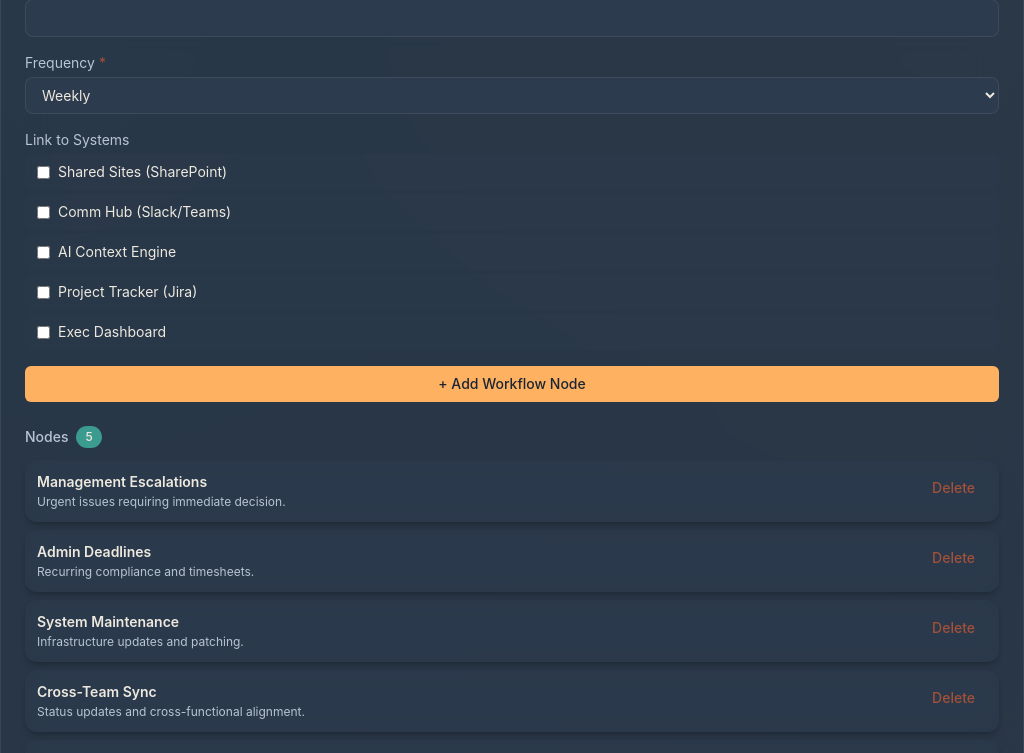
Test: InputStudio integration › validates empty workflow name and shows error
(page scrolled)
Click the button "+ Add Workflow Node" at (512, 384), box [25,366,999,402]
(page scrolled)
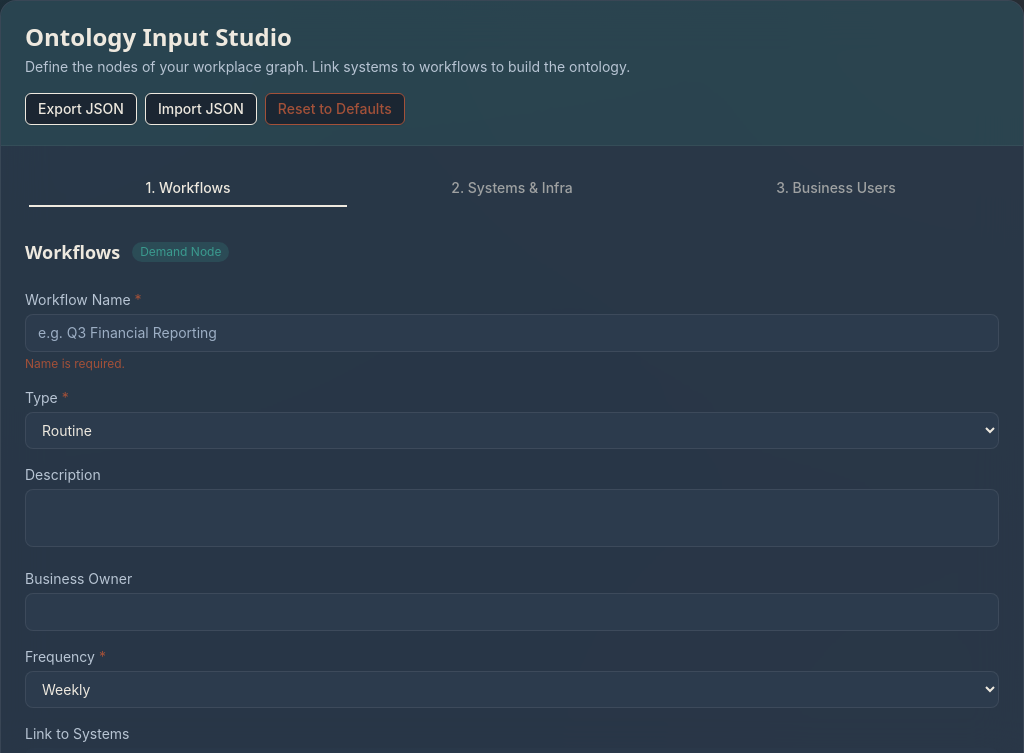
Result: the text "Name is required." is shown at [25,356,125,371]
